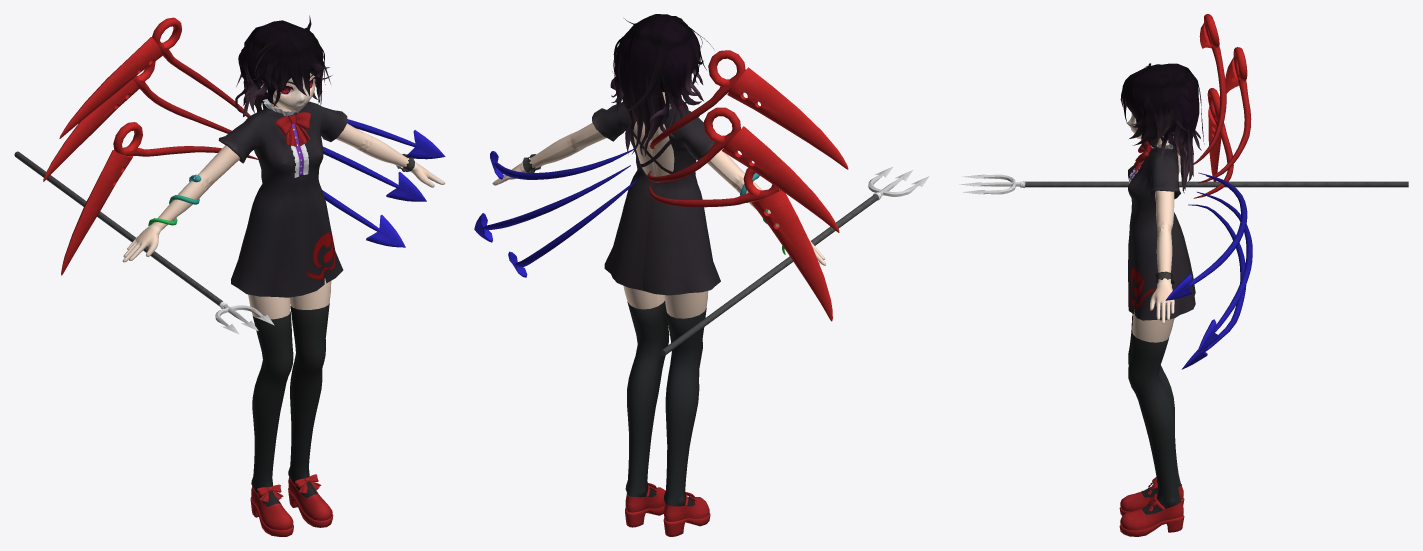
File: houjuu-nue.obj
3 views of the same model, side by side, from view 1: azimuth 30°, elevation 25°; view 2: azimuth 150°, elevation 25°; view 3: azimuth 270°, elevation 25° (orthographic). The views are drawn at different scales.
Parts seen in each view (by area): view 1: mesh_Mesh; view 2: mesh_Mesh; view 3: mesh_Mesh.
Boxes of the visible parts, x1=… form: mesh_Mesh: x1=14, y1=15, x2=445, y2=536; mesh_Mesh: x1=474, y1=14, x2=929, y2=536; mesh_Mesh: x1=959, y1=14, x2=1408, y2=536.
Bounding box in the file's own units: 1.24 × 1.6 × 1.4.
